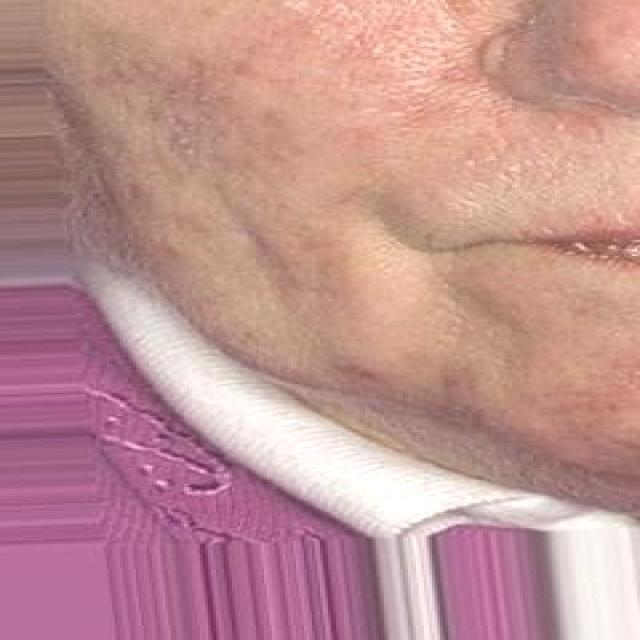Rosacea: (109, 13, 462, 191)
